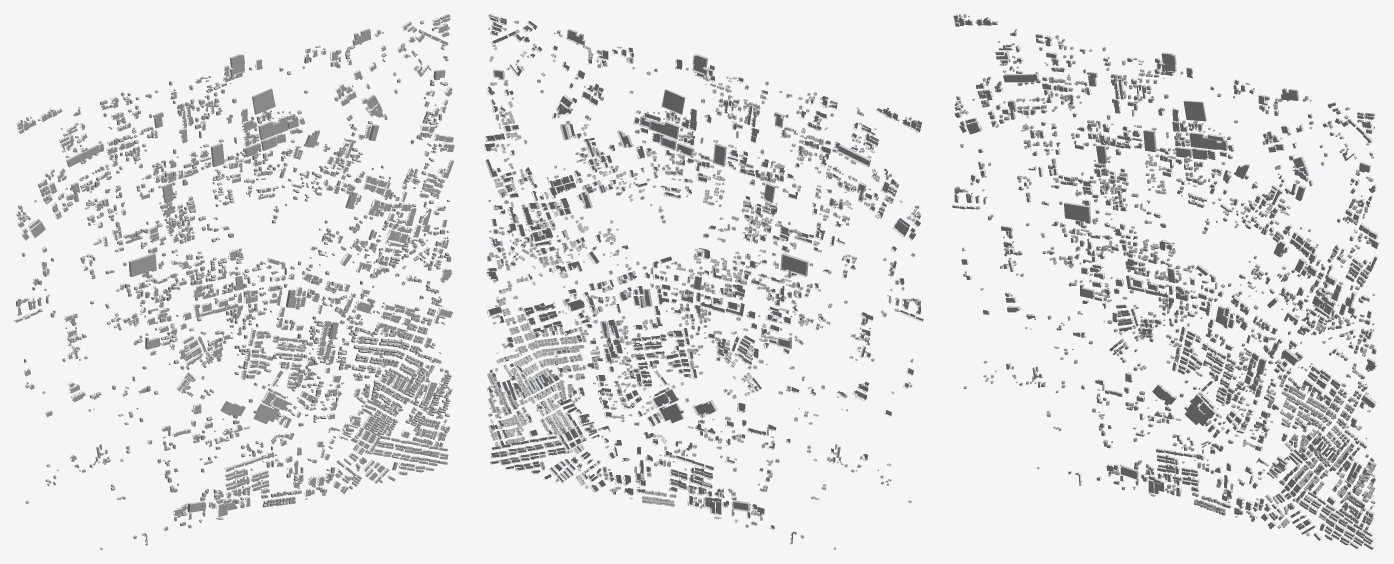
File: buildings_1_2.obj
The picture shows the model from 3 angles, left to right: view 1: azimuth 30°, elevation 25°; view 2: azimuth 150°, elevation 25°; view 3: azimuth 330°, elevation 25°; orthographic projection. The views are drawn at different scales.
Bounding box in the file's own units: 2040 × 2074 × 26.01.
Materials: 5 (5 with a texture image).
